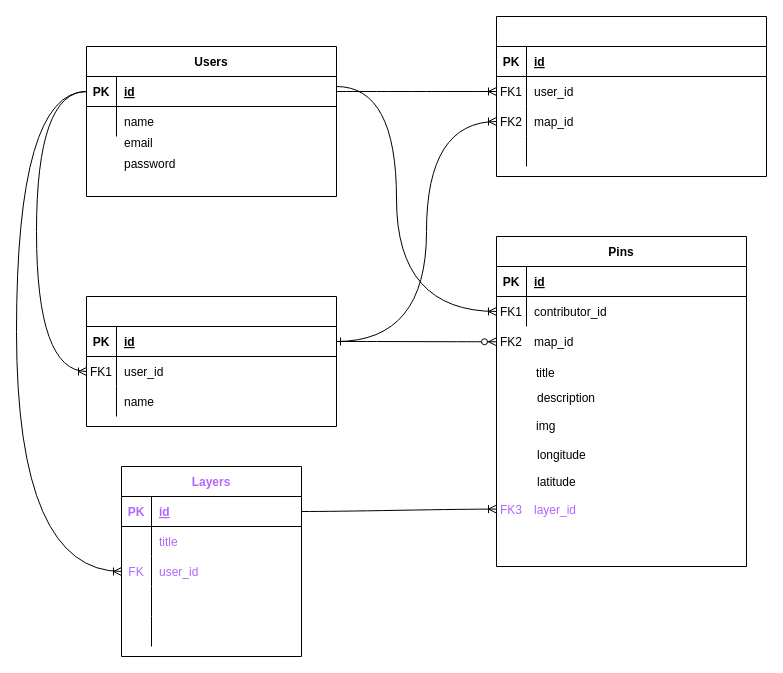
Some shapes in this 783 by 673 pixel diagram are drawn without their labels. Each missing label, with the box of its shape:
Favorites: (496, 16, 766, 176)
Maps: (86, 296, 336, 426)
